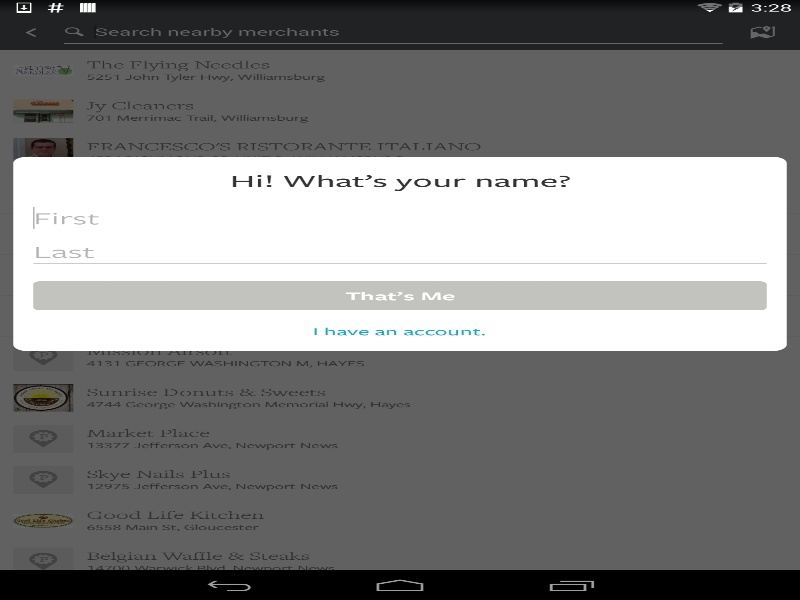Button: (33, 281, 766, 310)
Input: (33, 206, 766, 230), (33, 240, 766, 263)
